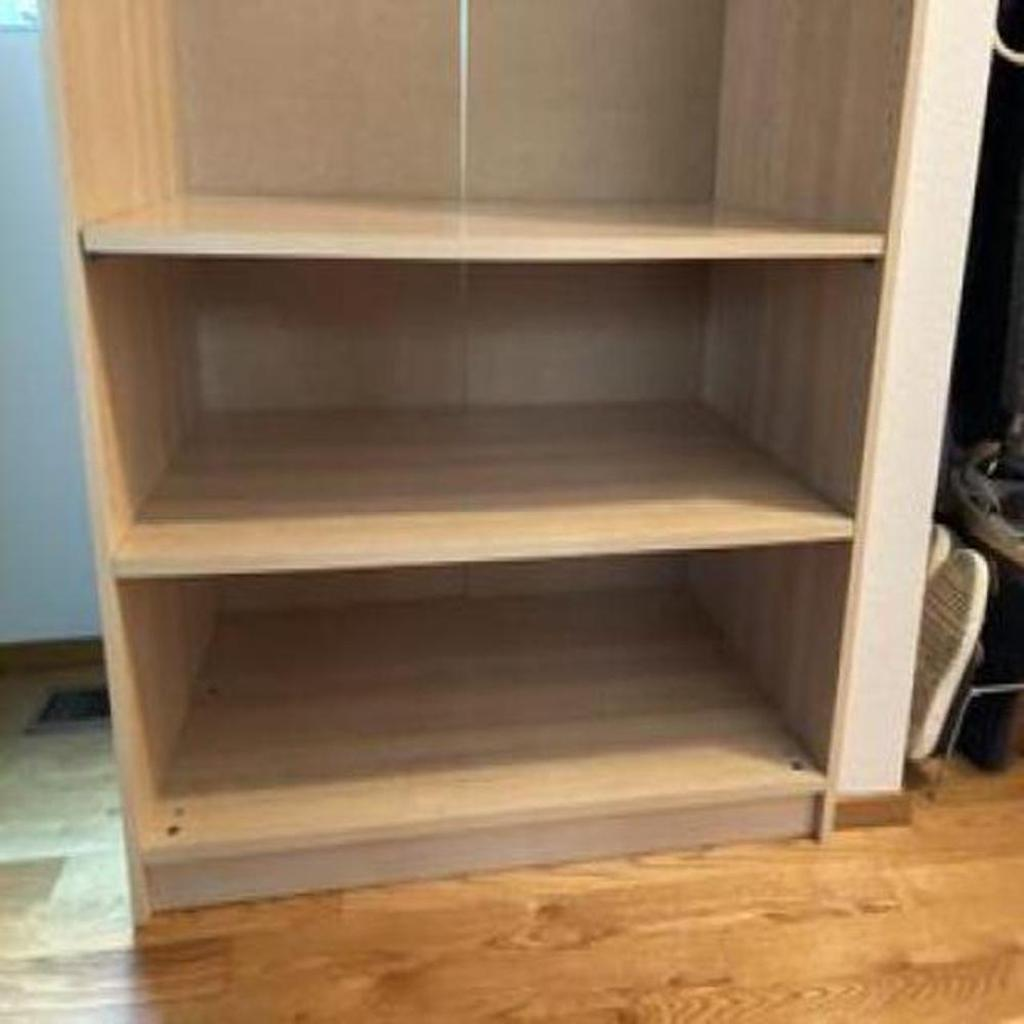lamp: (34, 0, 930, 935)
